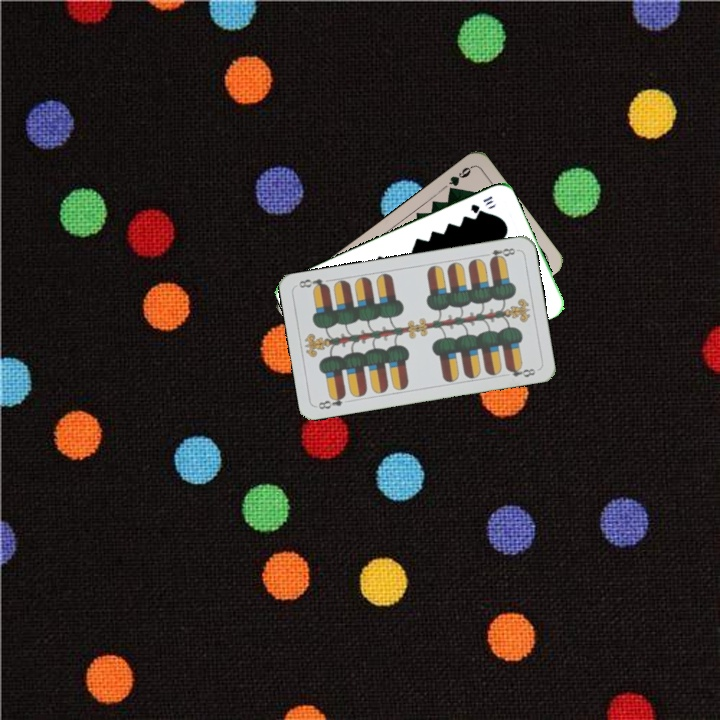E8: (479, 244, 520, 264), (314, 390, 348, 412)
G10: (467, 192, 495, 216)
G9: (444, 162, 475, 196)
